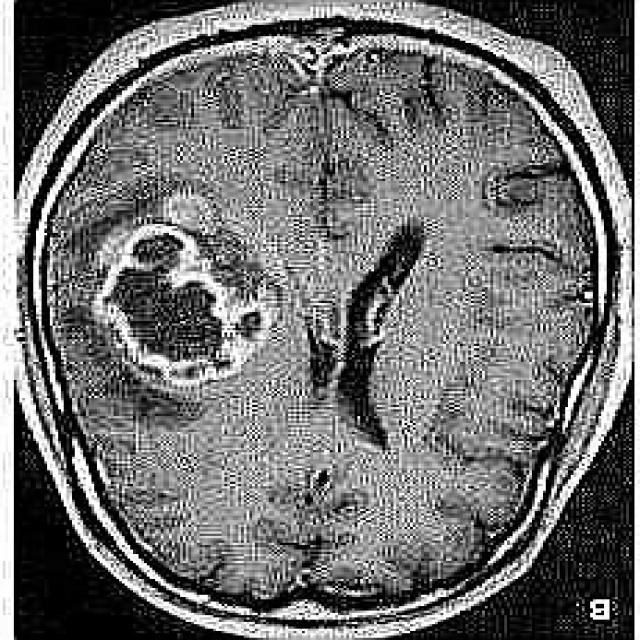Tumor-Cell: (72, 218, 295, 378)
